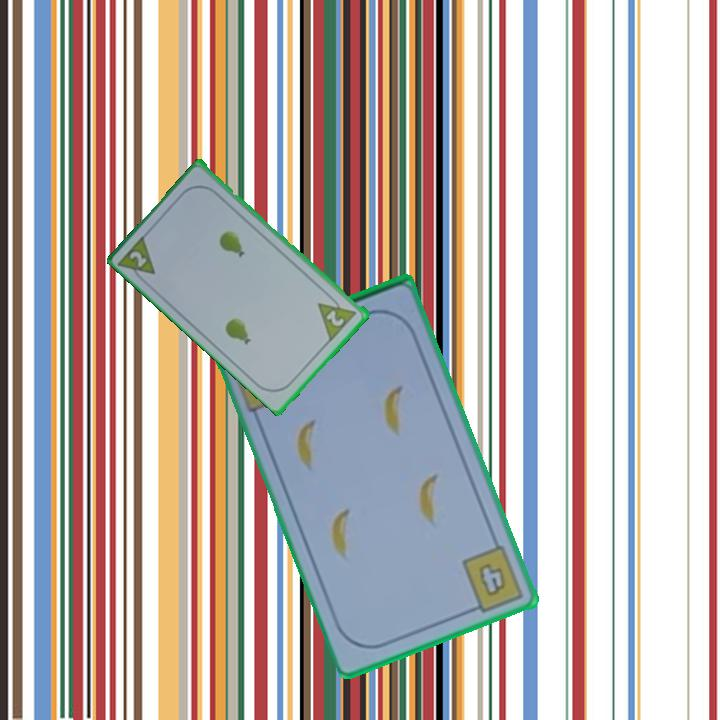2p: (323, 306, 347, 330), (126, 247, 150, 270)
4b: (458, 542, 528, 617)
